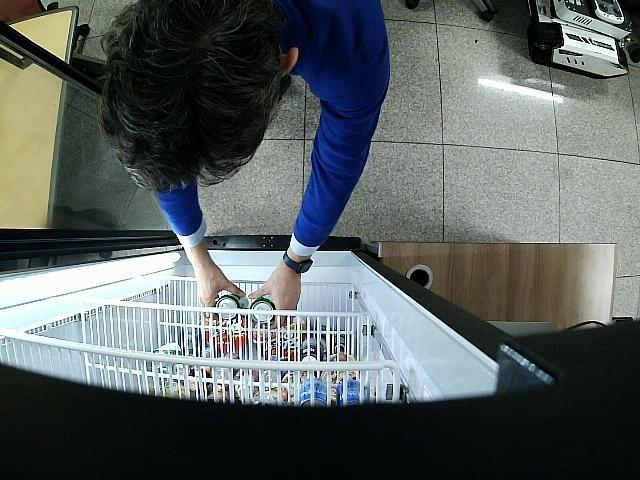12_chilsungCider: (216, 294, 249, 320), (251, 298, 275, 324)
